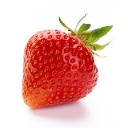strawberry: (21, 16, 100, 109)
